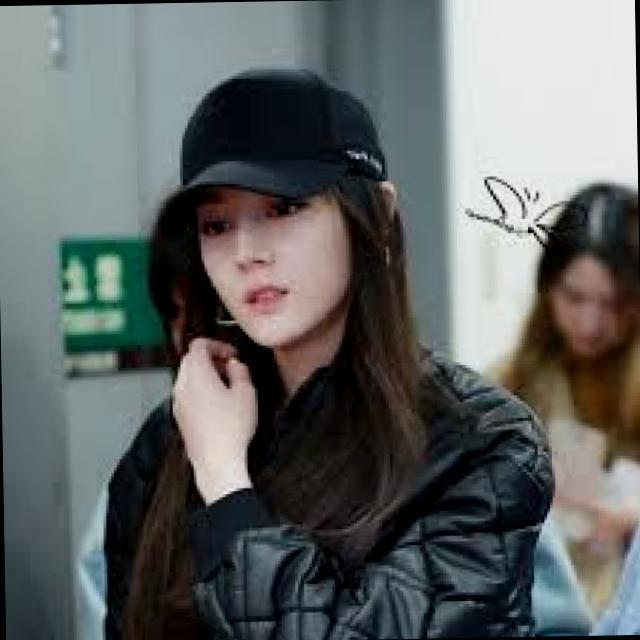cap: (136, 35, 408, 256)
